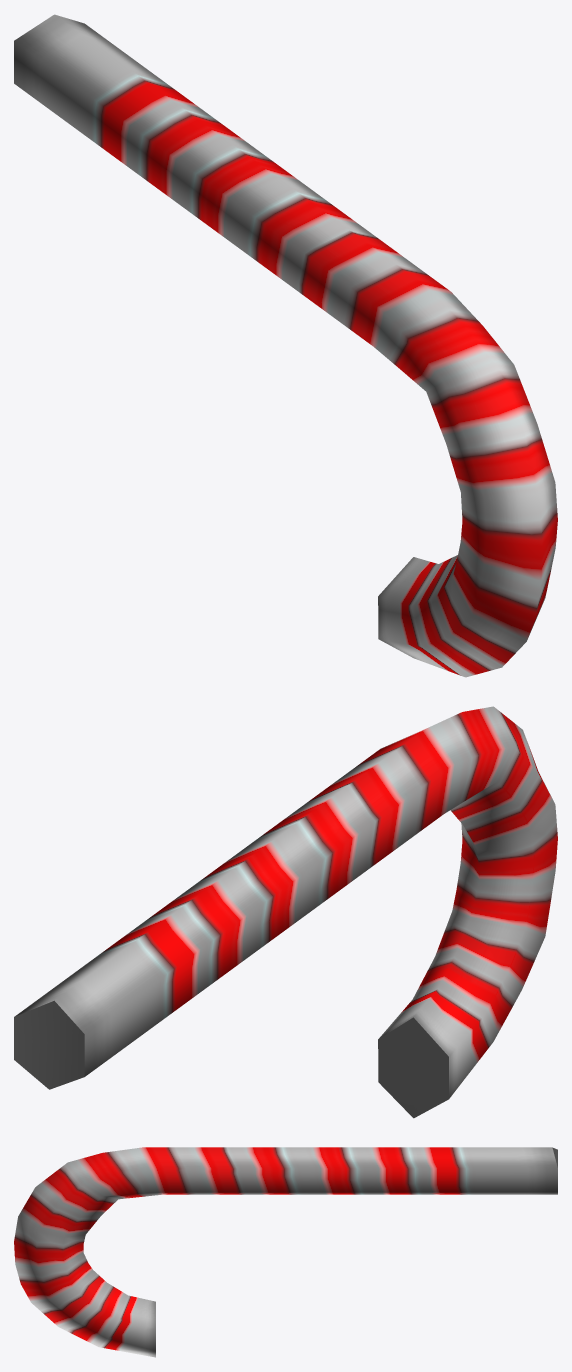
File: CandyCane.obj
3 renders of one model, top to bottom at view 1: azimuth 30°, elevation 25°; view 2: azimuth 150°, elevation 25°; view 3: azimuth 270°, elevation 25°, orthographic. The views are drawn at different scales.
Parts seen in each view (by area): view 1: weapon_010; view 2: weapon_010; view 3: weapon_010.
Part boxes in pixels (<box>): weapon_010: <box>14,14,557,677</box>; weapon_010: <box>14,706,557,1118</box>; weapon_010: <box>14,1147,557,1357</box>.
Bounding box in the file's own units: 0.1319 × 0.6593 × 1.55.
1 material, 1 textured.
